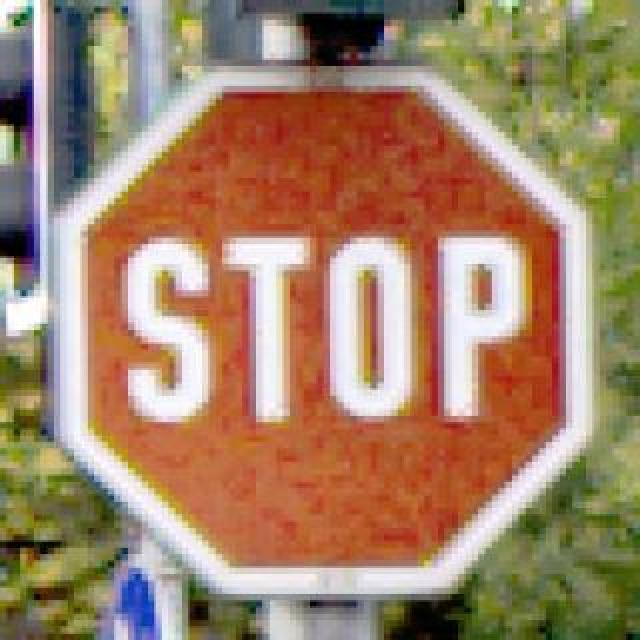stop: (34, 54, 586, 588)
